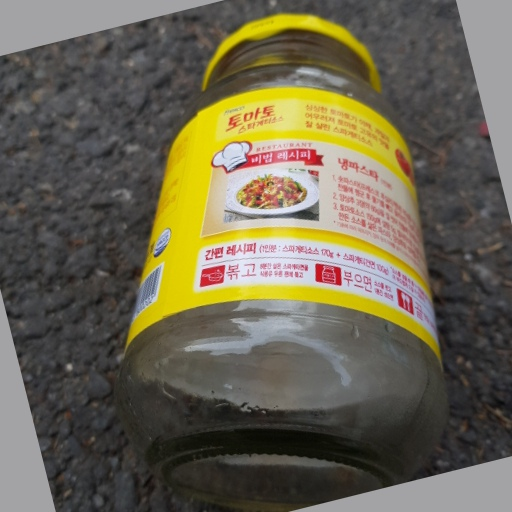Glass_5: (114, 13, 447, 498)
